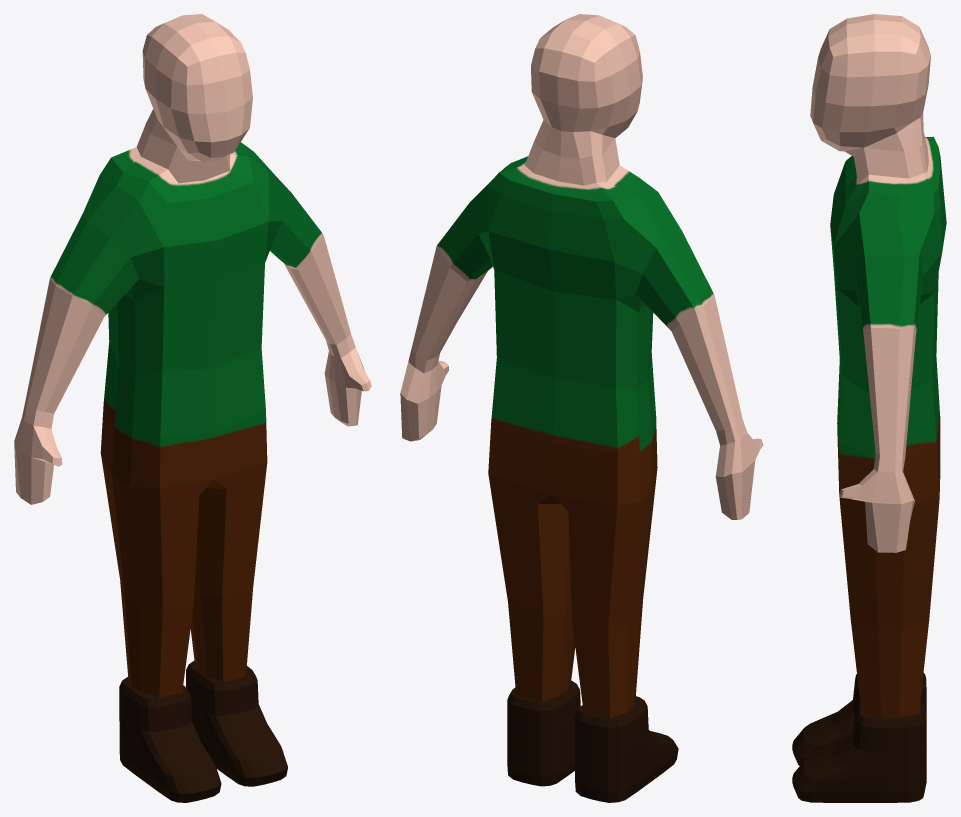
The model's file is human.fbx.
3 renders of one model, left to right at view 1: azimuth 30°, elevation 25°; view 2: azimuth 150°, elevation 25°; view 3: azimuth 270°, elevation 25°, orthographic.
Visible parts, largest first — view 1: Cube.002; view 2: Cube.002; view 3: Cube.002.
Boxes of the visible parts, <box> form: Cube.002: <box>14,14,371,802</box>; Cube.002: <box>400,14,763,802</box>; Cube.002: <box>792,14,946,802</box>.
Bounding box in the file's own units: 468 × 992 × 183.
